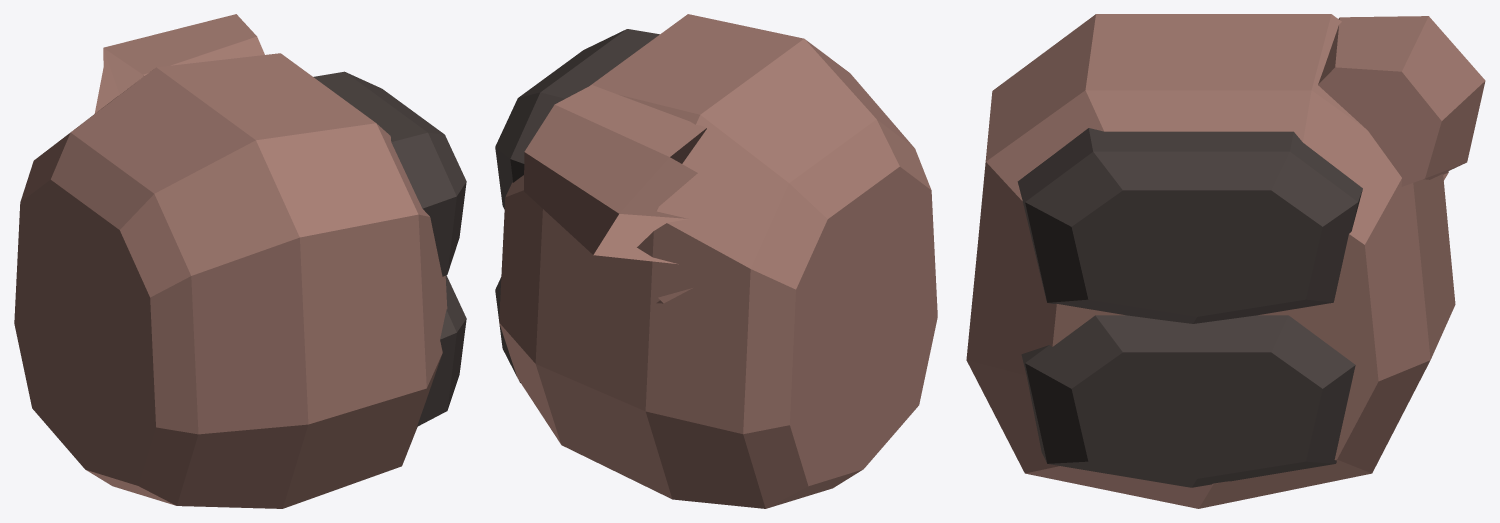
The model's file is SM_PigFist.glb.
3 renders of one model, left to right at view 1: azimuth 30°, elevation 25°; view 2: azimuth 150°, elevation 25°; view 3: azimuth 270°, elevation 25°, orthographic. The views are drawn at different scales.
Visible parts, largest first — view 1: SM_PigFist; view 2: SM_PigFist; view 3: SM_PigFist.
Boxes of the visible parts, x1,y1,x2,y2 form: SM_PigFist: [14, 14, 466, 508]; SM_PigFist: [495, 14, 937, 508]; SM_PigFist: [966, 14, 1485, 508].
Size of the model in its own units: 0.826 by 0.9701 by 1.
